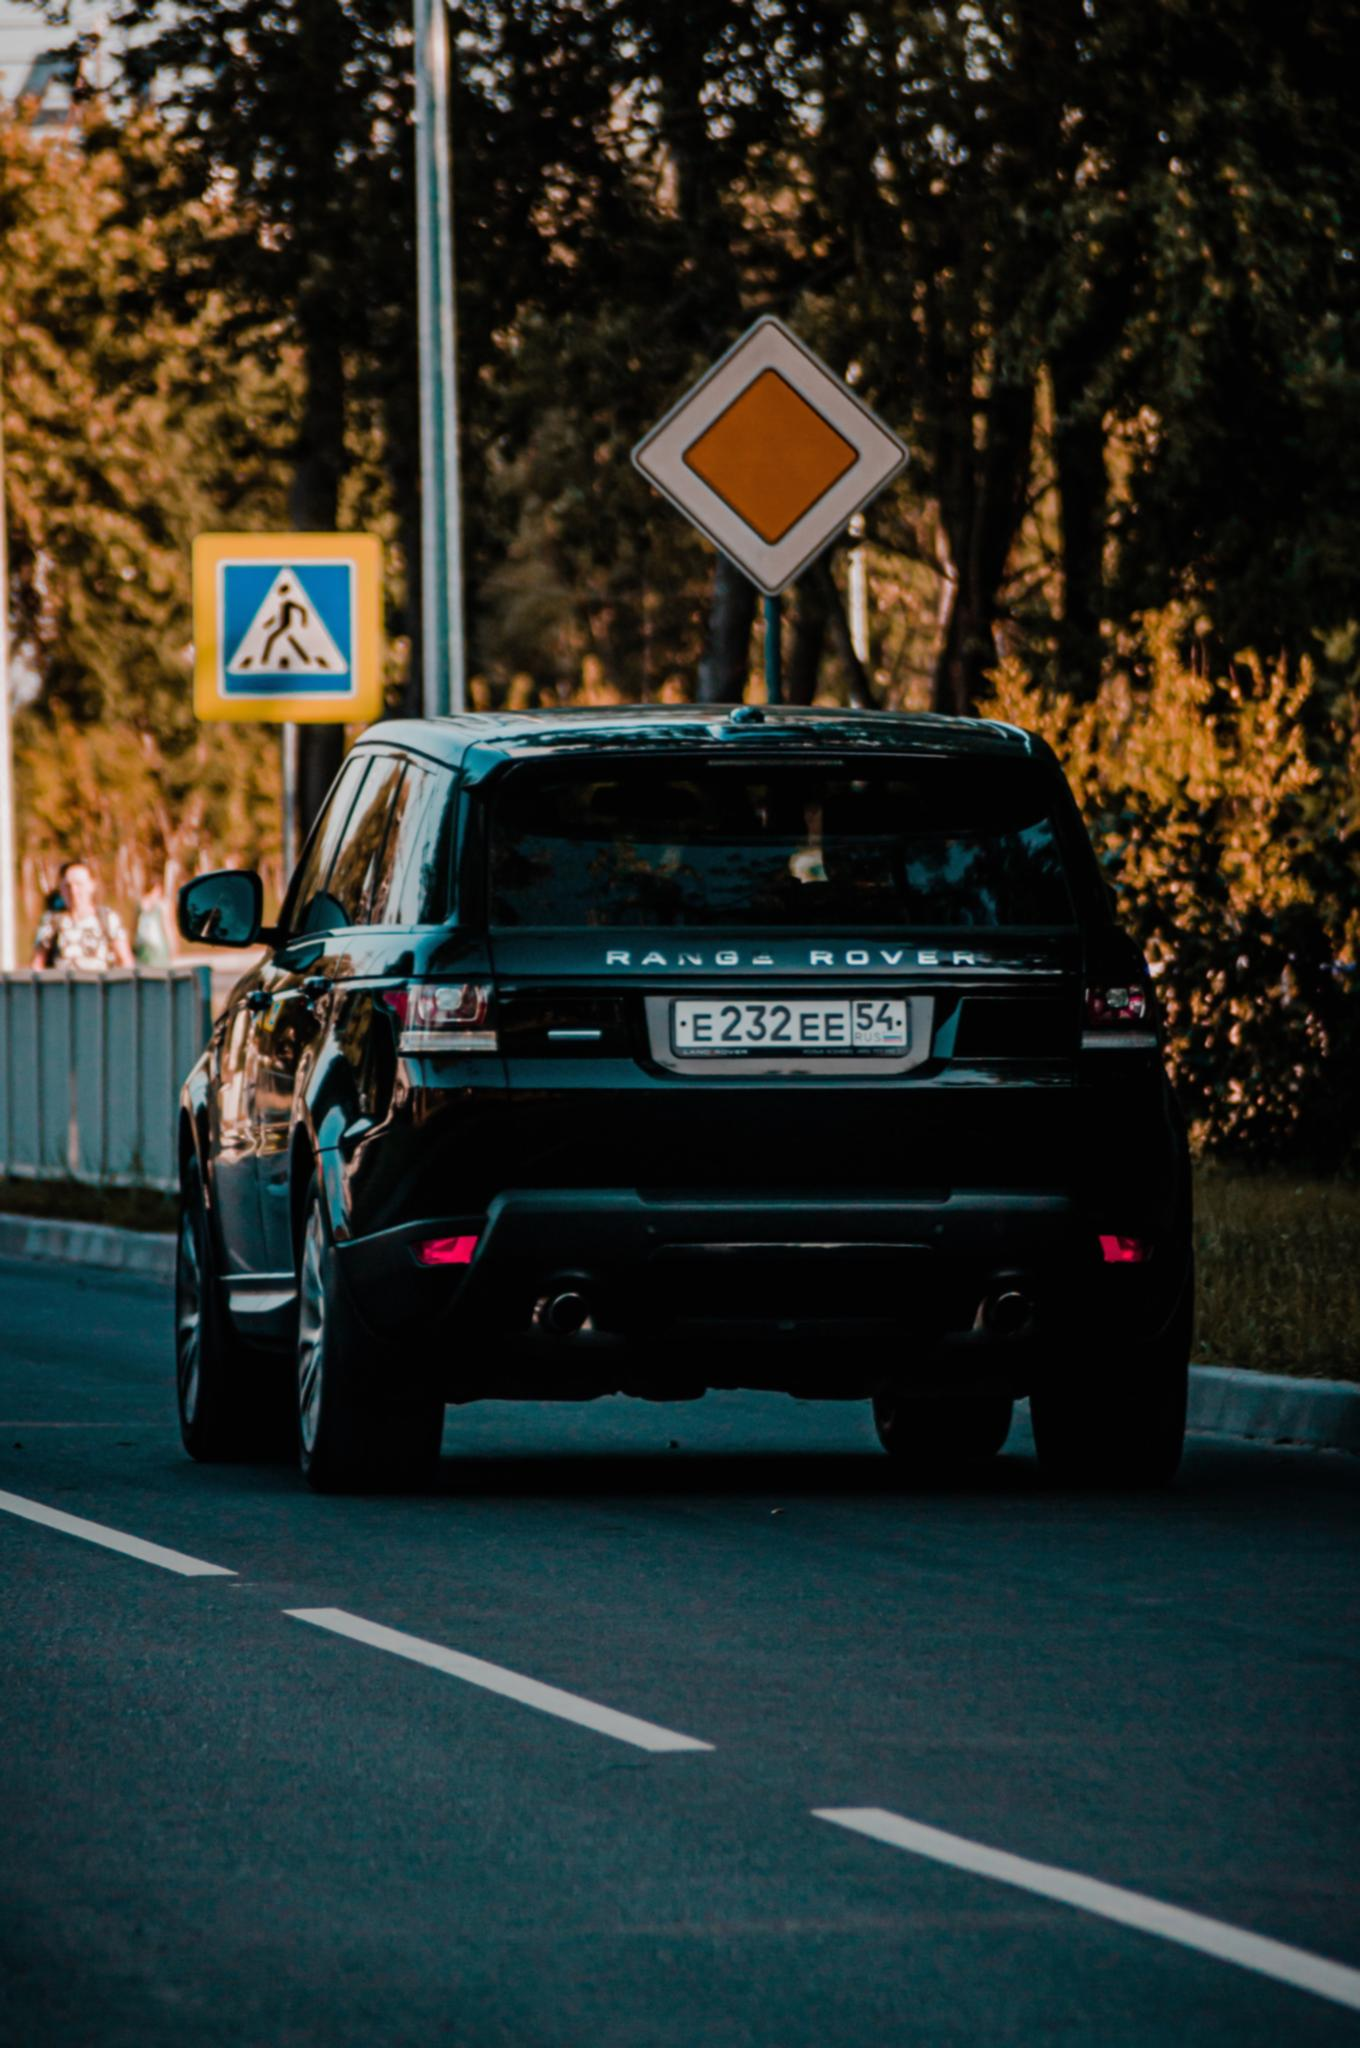range rover: (590, 934, 1003, 995)
